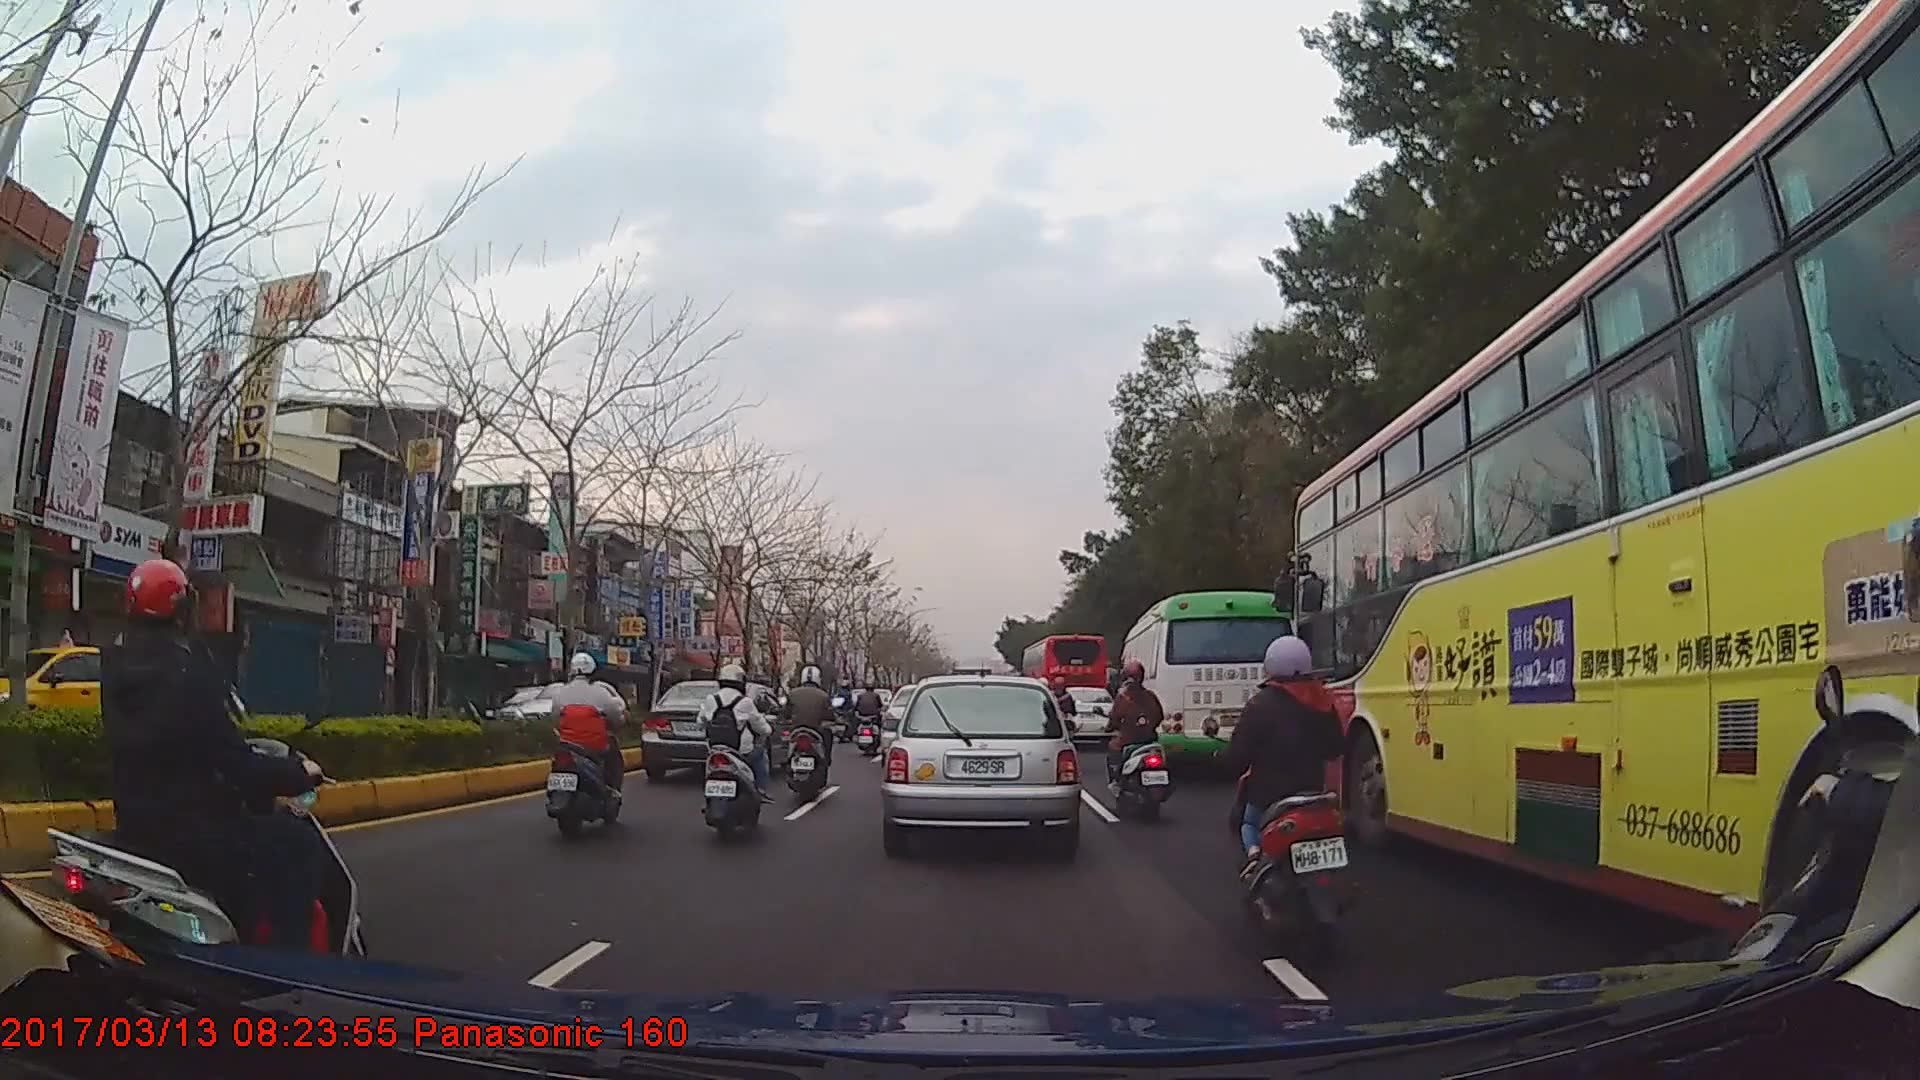rider: (44, 559, 365, 981), (1223, 633, 1356, 959), (549, 651, 629, 840), (696, 663, 771, 844), (1107, 662, 1172, 814), (780, 666, 844, 805), (853, 681, 888, 759), (837, 680, 859, 725)
vehicle: (1290, 0, 1920, 1017), (882, 669, 1082, 852), (1115, 589, 1297, 781), (0, 624, 190, 761), (639, 677, 794, 786), (1020, 631, 1108, 742)
